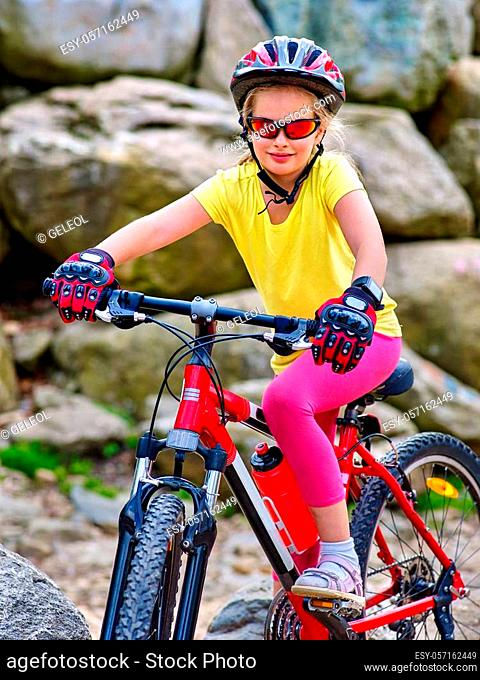helmet: (229, 35, 347, 174)
